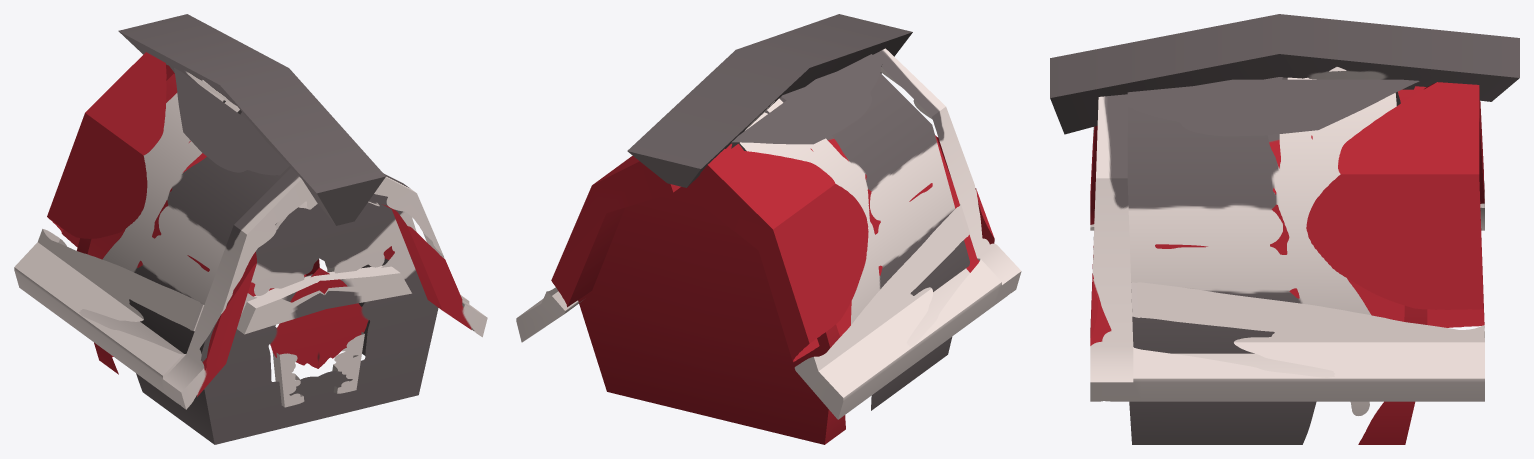
The model's file is the_barn.fbx.
3 renders of one model, left to right at view 1: azimuth 30°, elevation 25°; view 2: azimuth 150°, elevation 25°; view 3: azimuth 270°, elevation 25°, orthographic. The views are drawn at different scales.
Visible parts, largest first — view 1: The_barn2; view 2: The_barn2; view 3: The_barn2.
Boxes of the visible parts, bbox=[...] form: The_barn2: bbox=[14, 14, 487, 444]; The_barn2: bbox=[516, 14, 1021, 444]; The_barn2: bbox=[1050, 14, 1519, 444].
Size of the model in its own units: 67.98 by 63.16 by 76.37.
